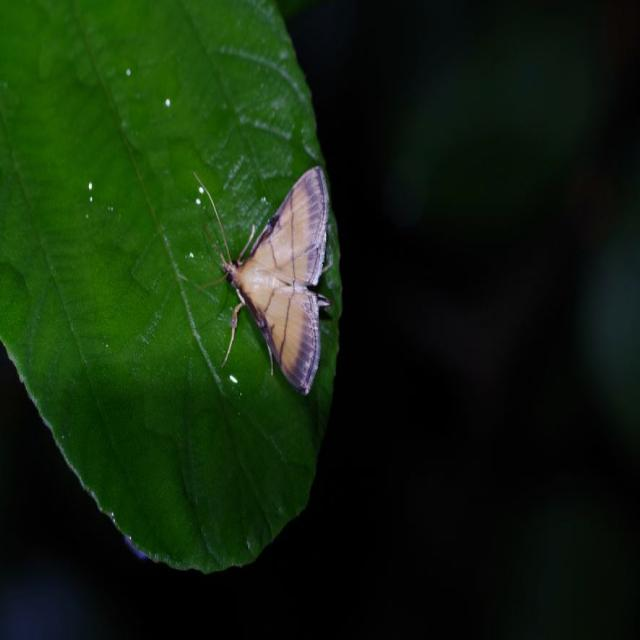rice leaf roller -penggulung daun padi-: (2, 1, 344, 576), (190, 163, 333, 398)
